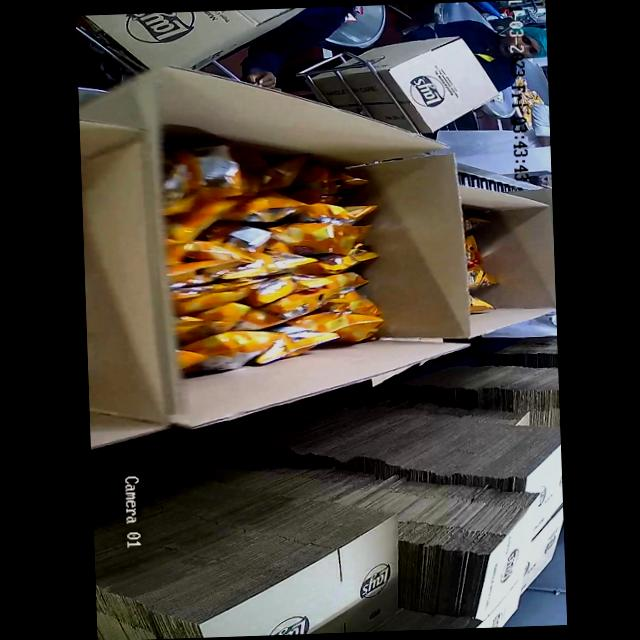cheese: (182, 140, 376, 368), (466, 205, 502, 331)
